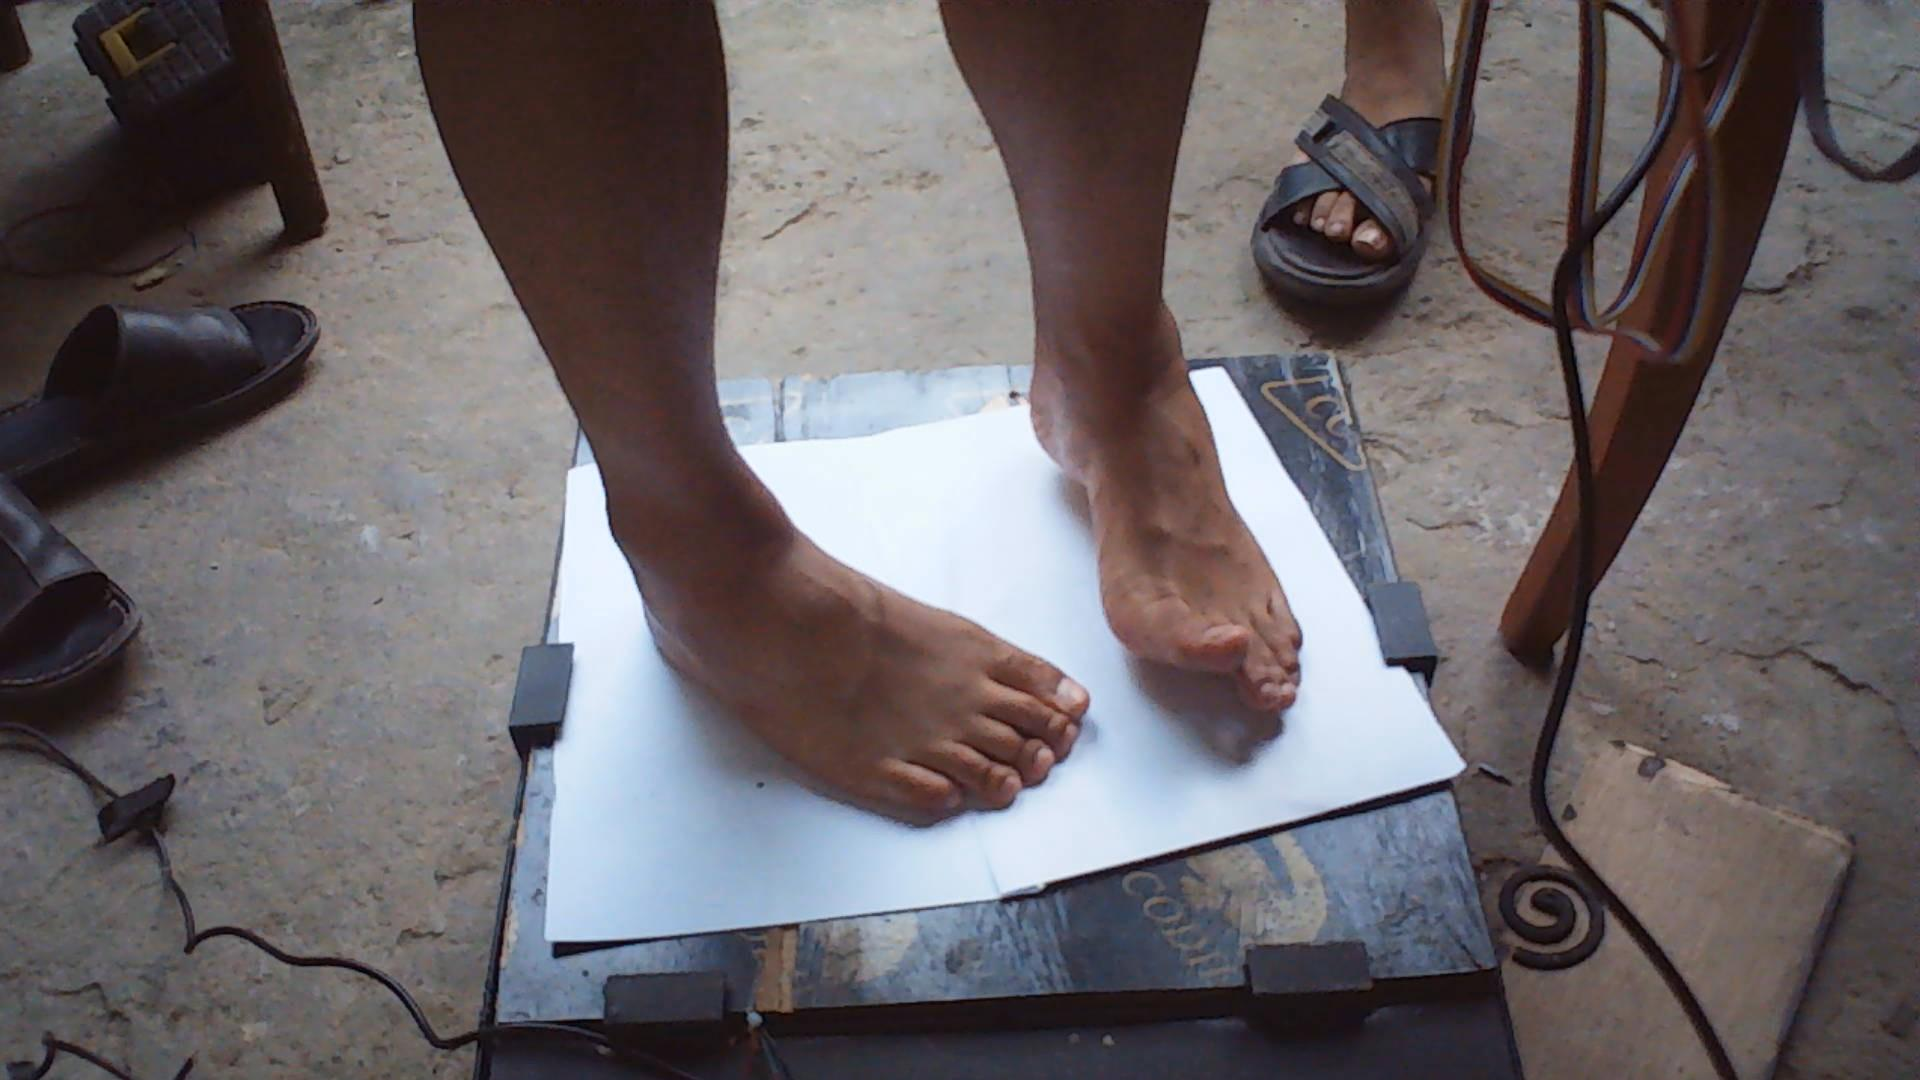Bare_feet: (593, 513, 1096, 827), (1006, 409, 1323, 741)
